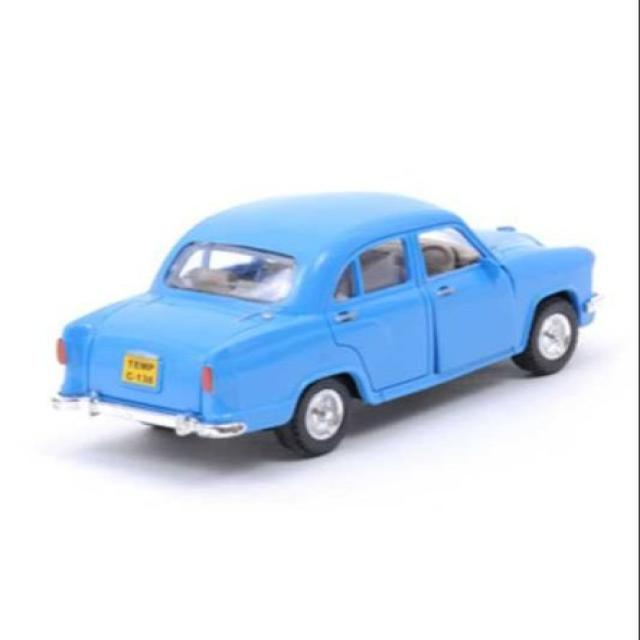Car: (49, 190, 598, 458)
